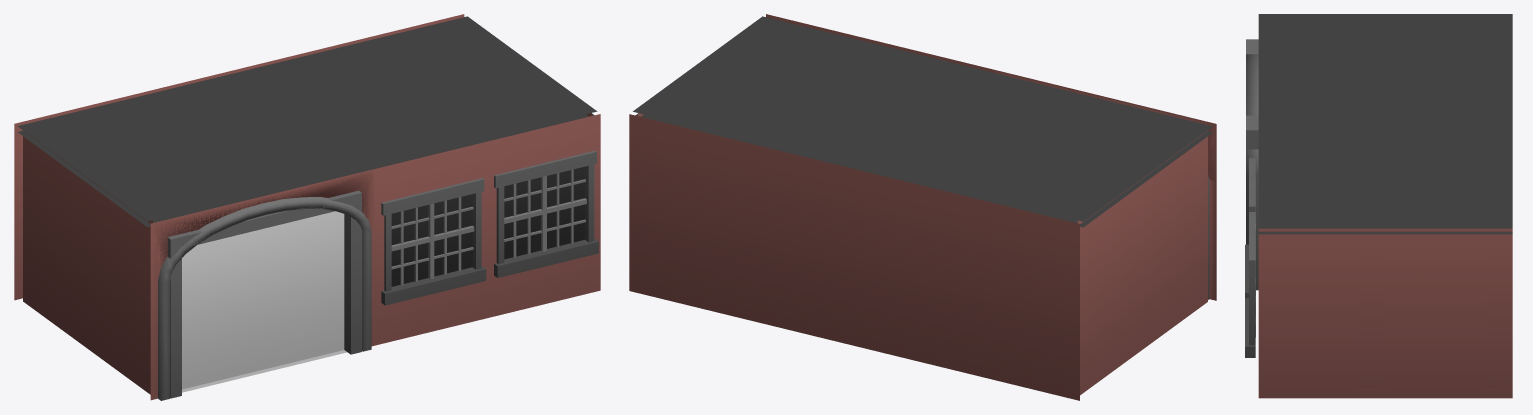
File: sawtooth-service-hall.glb
The picture shows the model from 3 angles, left to right: view 1: azimuth 30°, elevation 25°; view 2: azimuth 150°, elevation 25°; view 3: azimuth 270°, elevation 25°; orthographic projection. The views are drawn at different scales.
Visible parts, largest first — view 1: Part_01_IndGarageArchWhite_GarageArchWhite, Part_03_IndWindowBFull_WindowBFull, Part_04_IndWindowBFull_WindowBFull, Part_10_IndWallFull_WallFull, Part_09_IndWallFull_WallFull, Part_02_IndGarageWhite_GarageWhite, Part_13_IndRoofDarkGreyFull_RoofDarkGreyFull, Part_17_IndRoofDarkGreyFull_RoofDarkGreyFull, Part_14_IndRoofDarkGreyFull_RoofDarkGreyFull, Part_15_IndRoofDarkGreyFull_RoofDarkGreyFull, Part_16_IndRoofDarkGreyFull_RoofDarkGreyFull, Part_18_IndRoofDarkGreyFull_RoofDarkGreyFull (+3 smaller); view 2: Part_06_IndWallFull_WallFull, Part_05_IndWallFull_WallFull, Part_08_IndWallFull_WallFull, Part_07_IndWallFull_WallFull, Part_09_IndWallFull_WallFull, Part_10_IndWallFull_WallFull, Part_17_IndRoofDarkGreyFull_RoofDarkGreyFull, Part_13_IndRoofDarkGreyFull_RoofDarkGreyFull, Part_19_IndRoofDarkGreyFull_RoofDarkGreyFull, Part_18_IndRoofDarkGreyFull_RoofDarkGreyFull, Part_20_IndRoofDarkGreyFull_RoofDarkGreyFull, Part_15_IndRoofDarkGreyFull_RoofDarkGreyFull (+4 smaller); view 3: Part_11_IndWallFull_WallFull, Part_12_IndWallFull_WallFull, Part_16_IndRoofDarkGreyFull_RoofDarkGreyFull, Part_20_IndRoofDarkGreyFull_RoofDarkGreyFull, Part_14_IndRoofDarkGreyFull_RoofDarkGreyFull, Part_18_IndRoofDarkGreyFull_RoofDarkGreyFull, Part_13_IndRoofDarkGreyFull_RoofDarkGreyFull, Part_15_IndRoofDarkGreyFull_RoofDarkGreyFull, Part_17_IndRoofDarkGreyFull_RoofDarkGreyFull, Part_19_IndRoofDarkGreyFull_RoofDarkGreyFull, Part_01_IndGarageArchWhite_GarageArchWhite, Part_04_IndWindowBFull_WindowBFull (+2 smaller).
Part boxes in pixels (bbox=[...]): Part_01_IndGarageArchWhite_GarageArchWhite: bbox=[150, 169, 375, 400]; Part_03_IndWindowBFull_WindowBFull: bbox=[375, 141, 488, 345]; Part_04_IndWindowBFull_WindowBFull: bbox=[488, 114, 600, 317]; Part_10_IndWallFull_WallFull: bbox=[23, 130, 87, 348]; Part_09_IndWallFull_WallFull: bbox=[88, 178, 152, 394]; Part_02_IndGarageWhite_GarageWhite: bbox=[150, 170, 375, 399]; Part_13_IndRoofDarkGreyFull_RoofDarkGreyFull: bbox=[82, 146, 259, 226]; Part_17_IndRoofDarkGreyFull_RoofDarkGreyFull: bbox=[17, 99, 194, 179]; Part_14_IndRoofDarkGreyFull_RoofDarkGreyFull: bbox=[195, 119, 371, 197]; Part_15_IndRoofDarkGreyFull_RoofDarkGreyFull: bbox=[308, 91, 484, 169]; Part_16_IndRoofDarkGreyFull_RoofDarkGreyFull: bbox=[420, 64, 597, 142]; Part_18_IndRoofDarkGreyFull_RoofDarkGreyFull: bbox=[130, 71, 306, 146]; Part_06_IndWallFull_WallFull: bbox=[854, 169, 967, 373]; Part_05_IndWallFull_WallFull: bbox=[967, 196, 1079, 400]; Part_08_IndWallFull_WallFull: bbox=[629, 114, 741, 318]; Part_07_IndWallFull_WallFull: bbox=[742, 141, 854, 345]; Part_09_IndWallFull_WallFull: bbox=[1142, 130, 1207, 349]; Part_10_IndWallFull_WallFull: bbox=[1077, 178, 1142, 395]; Part_17_IndRoofDarkGreyFull_RoofDarkGreyFull: bbox=[971, 146, 1147, 227]; Part_13_IndRoofDarkGreyFull_RoofDarkGreyFull: bbox=[1036, 99, 1212, 179]; Part_19_IndRoofDarkGreyFull_RoofDarkGreyFull: bbox=[745, 91, 922, 170]; Part_18_IndRoofDarkGreyFull_RoofDarkGreyFull: bbox=[858, 119, 1035, 197]; Part_20_IndRoofDarkGreyFull_RoofDarkGreyFull: bbox=[633, 64, 809, 142]; Part_15_IndRoofDarkGreyFull_RoofDarkGreyFull: bbox=[810, 44, 987, 118]; Part_11_IndWallFull_WallFull: bbox=[1258, 228, 1385, 398]; Part_12_IndWallFull_WallFull: bbox=[1385, 228, 1512, 398]; Part_16_IndRoofDarkGreyFull_RoofDarkGreyFull: bbox=[1258, 175, 1385, 234]; Part_20_IndRoofDarkGreyFull_RoofDarkGreyFull: bbox=[1385, 175, 1512, 234]; Part_14_IndRoofDarkGreyFull_RoofDarkGreyFull: bbox=[1258, 67, 1385, 121]; Part_18_IndRoofDarkGreyFull_RoofDarkGreyFull: bbox=[1385, 67, 1512, 121]; Part_13_IndRoofDarkGreyFull_RoofDarkGreyFull: bbox=[1258, 14, 1385, 67]; Part_15_IndRoofDarkGreyFull_RoofDarkGreyFull: bbox=[1258, 121, 1385, 174]; Part_17_IndRoofDarkGreyFull_RoofDarkGreyFull: bbox=[1385, 14, 1512, 67]; Part_19_IndRoofDarkGreyFull_RoofDarkGreyFull: bbox=[1385, 121, 1512, 174]; Part_01_IndGarageArchWhite_GarageArchWhite: bbox=[1246, 54, 1258, 290]; Part_04_IndWindowBFull_WindowBFull: bbox=[1245, 212, 1255, 357].
Size of the model in its own units: 8 by 3 by 4.32.
Materials: 20 (20 with a texture image).
